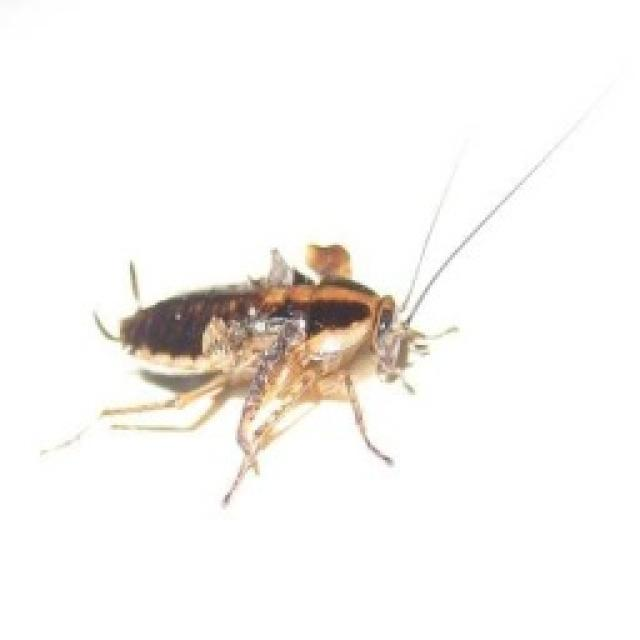cockroach: (56, 148, 486, 492)
